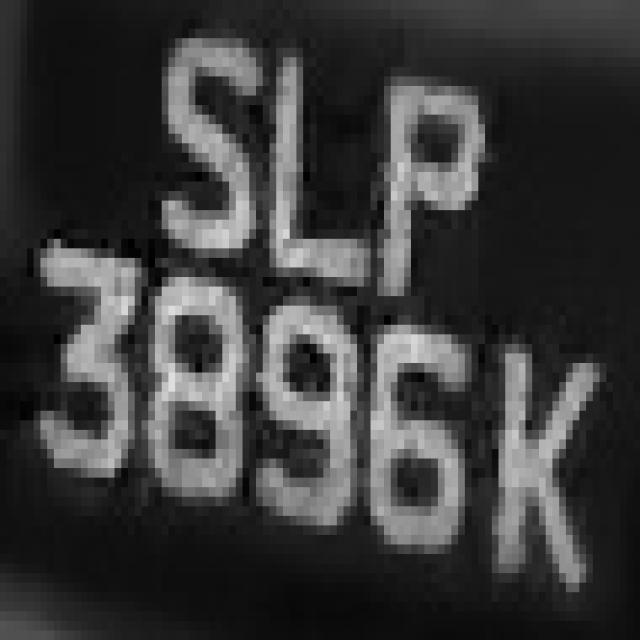3: (34, 210, 142, 526)
6: (344, 296, 485, 583)
8: (128, 229, 263, 554)
9: (236, 296, 370, 554)
K: (478, 286, 593, 602)
L: (256, 28, 371, 324)
P: (377, 48, 492, 296)
S: (148, 19, 270, 296)
